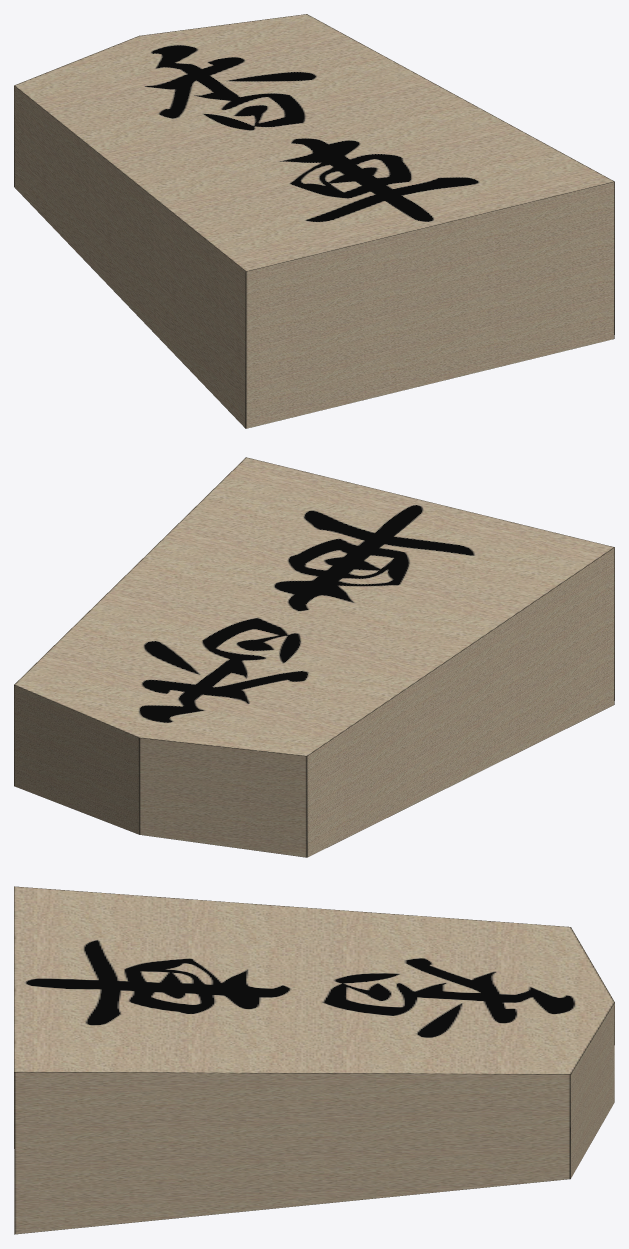
The model's file is 07_Kyosha.fbx.
3 renders of one model, top to bottom at view 1: azimuth 30°, elevation 25°; view 2: azimuth 150°, elevation 25°; view 3: azimuth 270°, elevation 25°, orthographic. The views are drawn at different scales.
Parts seen in each view (by area): view 1: 07_Kyosha; view 2: 07_Kyosha; view 3: 07_Kyosha.
Part boxes in pixels (<box>): 07_Kyosha: <box>14,14,614,428</box>; 07_Kyosha: <box>14,457,614,857</box>; 07_Kyosha: <box>14,886,614,1234</box>.
Size of the model in its own units: 0.565 by 0.7727 by 0.2303.
Materials: 1 (1 with a texture image).
